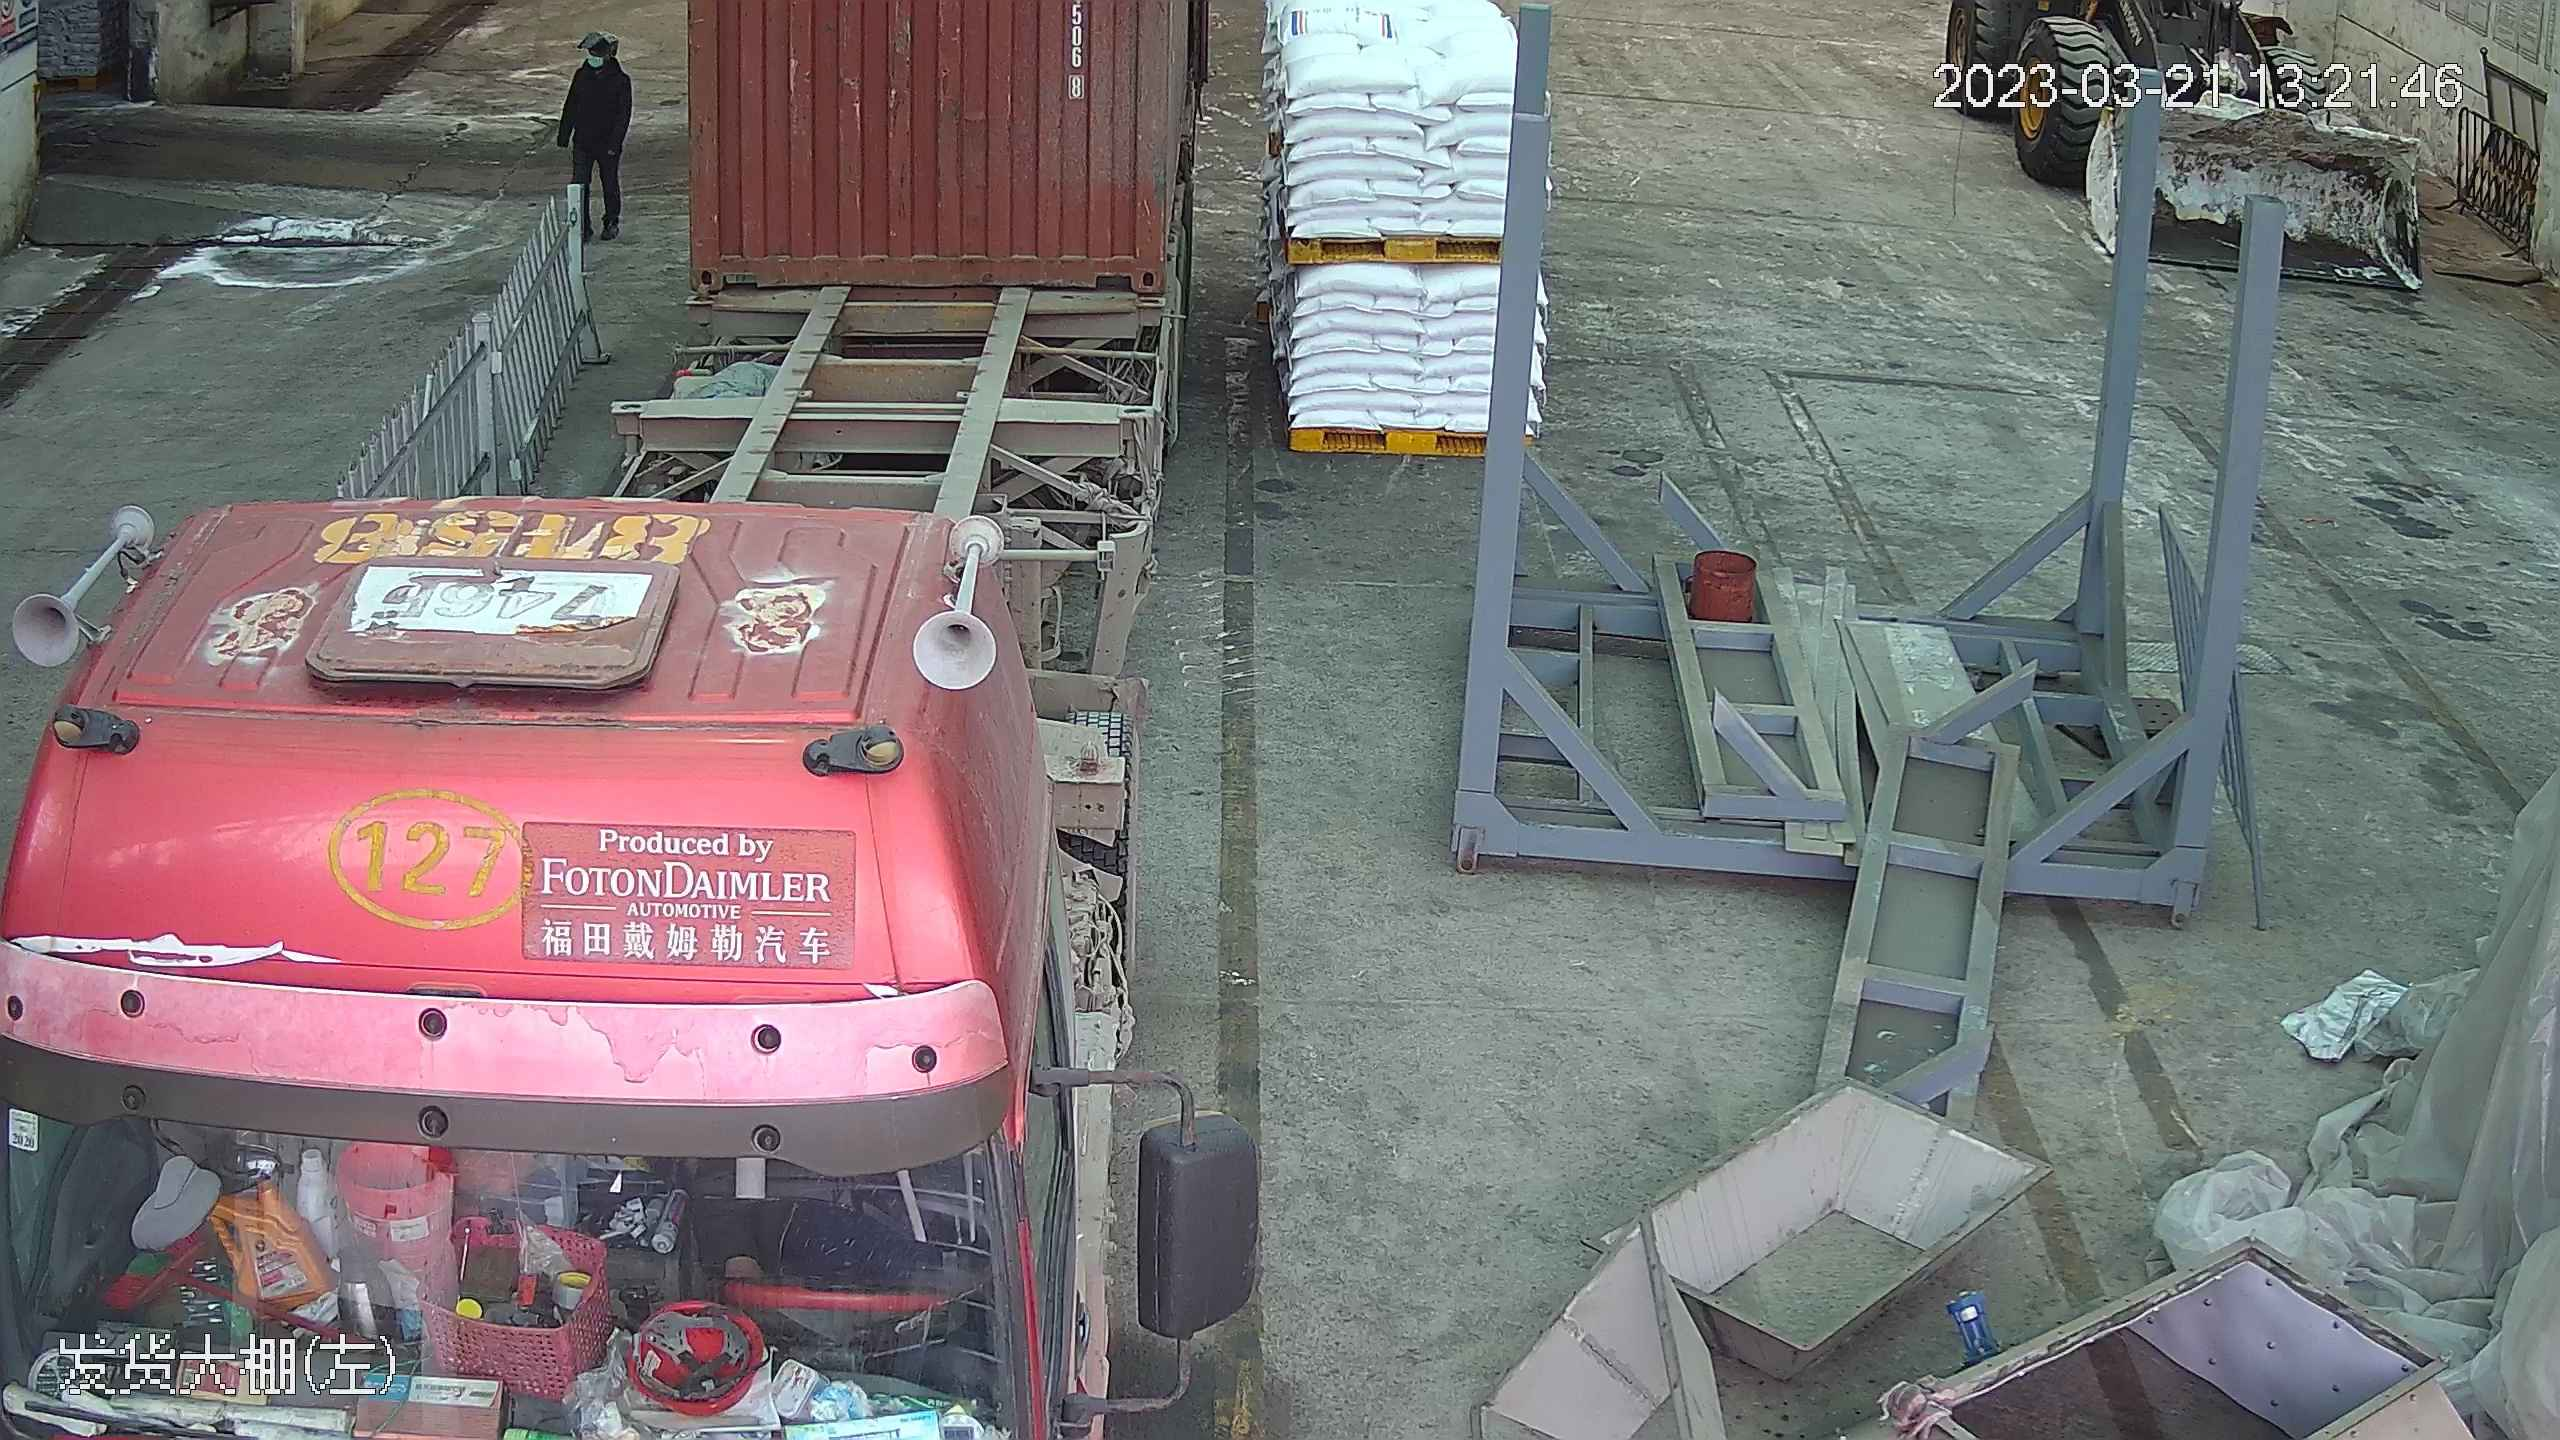head: (570, 23, 631, 88)
helmet: (581, 21, 619, 51)
people: (552, 18, 639, 248)
truck: (0, 0, 1174, 1440)
